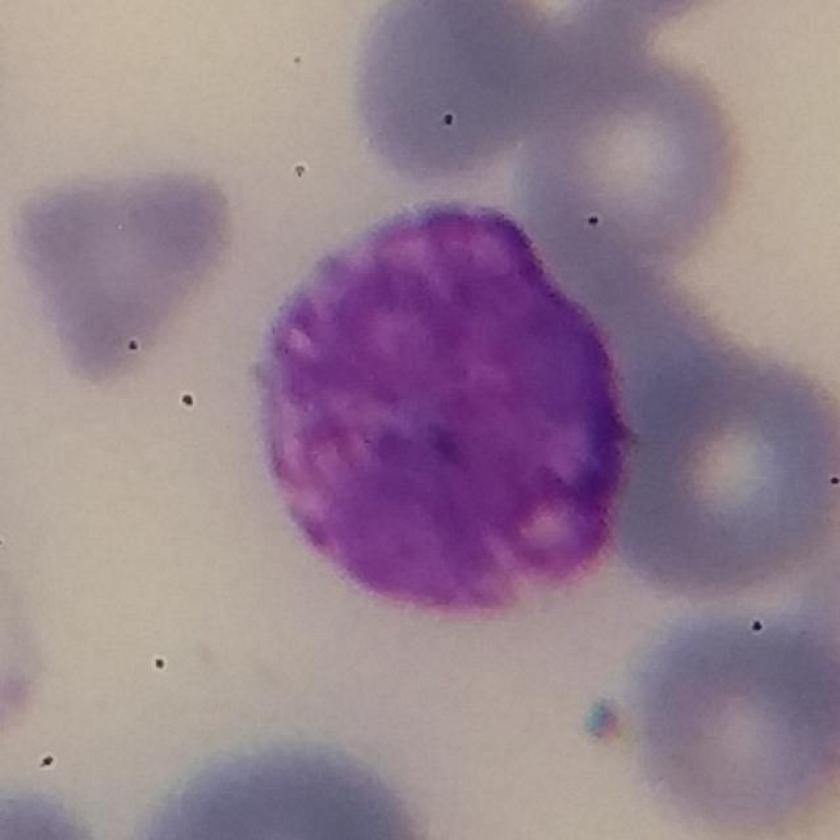basophil: (253, 206, 639, 618)
